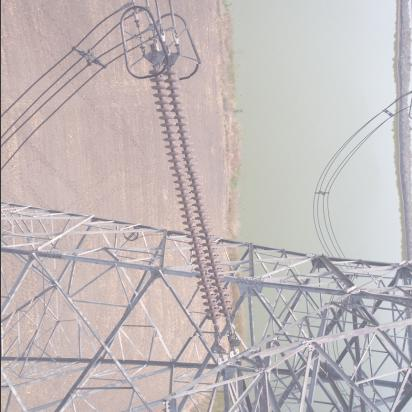insulator: (150, 66, 234, 338)
